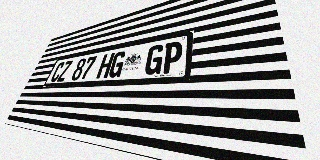7: (79, 56, 97, 80)
8: (70, 58, 88, 81)
C: (49, 62, 66, 82)
G: (143, 44, 165, 75), (107, 50, 127, 78)
H: (96, 53, 115, 79)
P: (160, 40, 183, 74)
Z: (56, 60, 73, 82)
